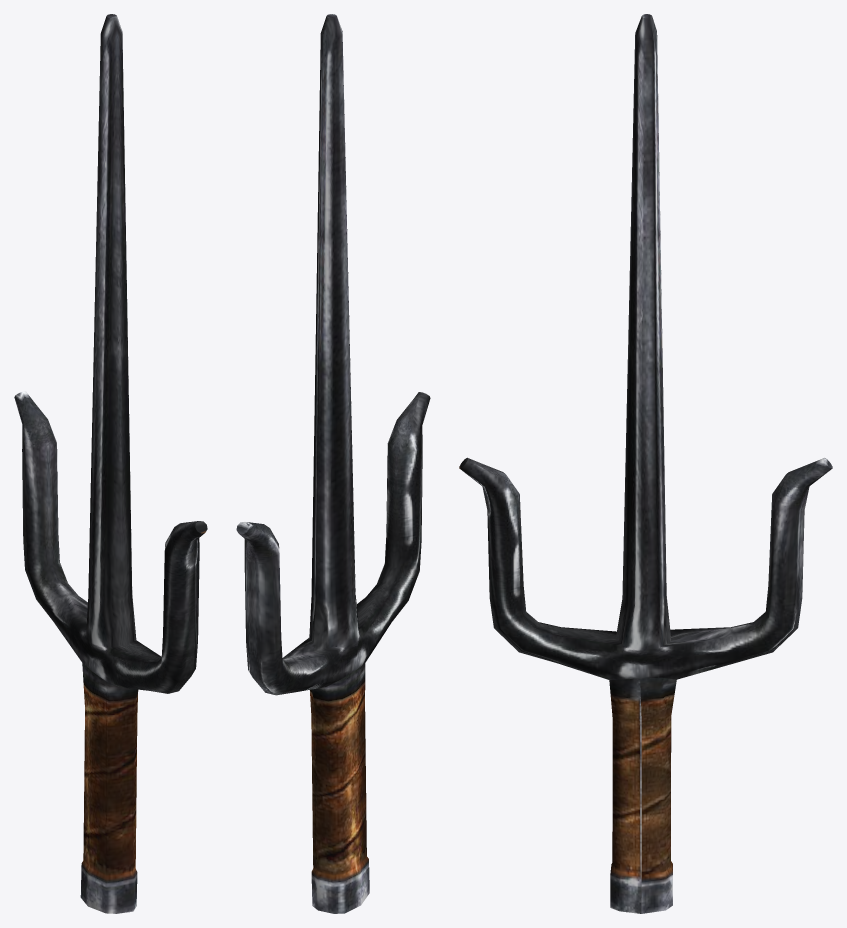
The model's file is weapons_sai.glb.
3 views of the same model, side by side, from view 1: azimuth 30°, elevation 25°; view 2: azimuth 150°, elevation 25°; view 3: azimuth 270°, elevation 25° (orthographic).
Visible parts, largest first — view 1: sai; view 2: sai; view 3: sai.
Boxes of the visible parts, box(x1,y1,x2,y2) form: sai: box(14, 14, 207, 913); sai: box(236, 14, 430, 913); sai: box(459, 14, 832, 913).
Size of the model in its own units: 0.0328 by 0.5966 by 0.2267.
1 material, 1 textured.
